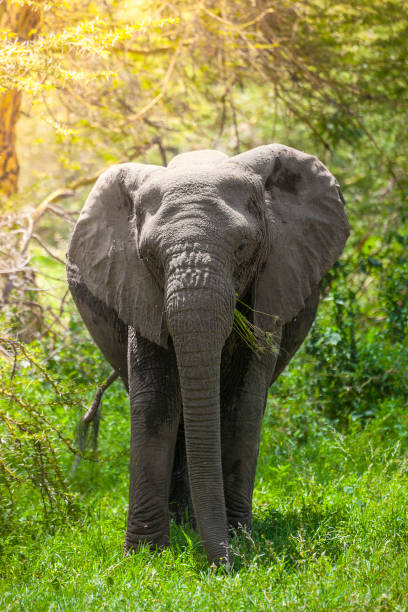africanelephant: (88, 142, 267, 539)
